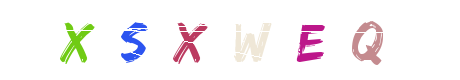E: (212, 0, 292, 80)
Q: (292, 0, 372, 80)
S: (93, 0, 173, 80)
W: (199, 0, 279, 80)
X: (36, 0, 116, 80), (190, 0, 270, 80)
